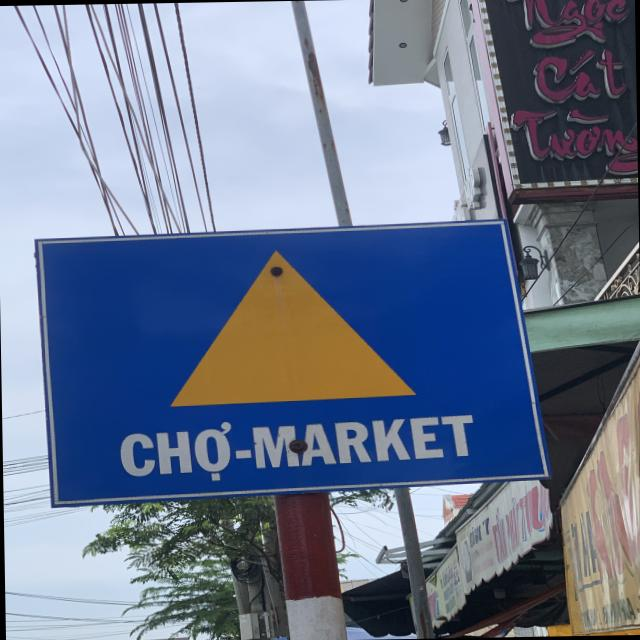Cho_Quay_Xe: (49, 221, 536, 493)
